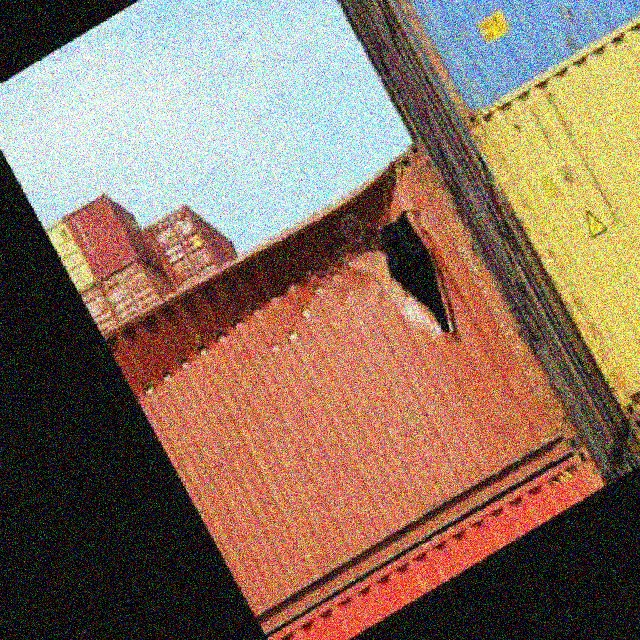Dent: (122, 240, 362, 439)
Hole: (274, 138, 431, 260), (358, 183, 466, 354)
